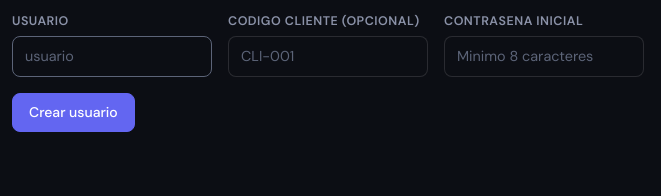
UserCrudForm › valida campos basicos en cliente
Step 1. Type "a" into the field labelled "Usuario" → point(112, 57), box [12,36,212,78]
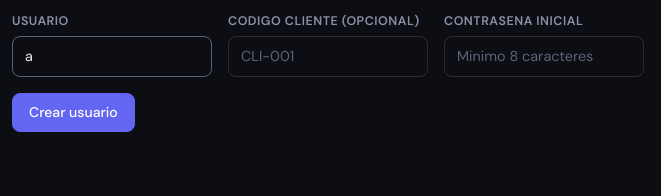
Step 2. Type "123" into the password field labelled "Contrasena inicial" → point(544, 57), box [444,36,644,78]
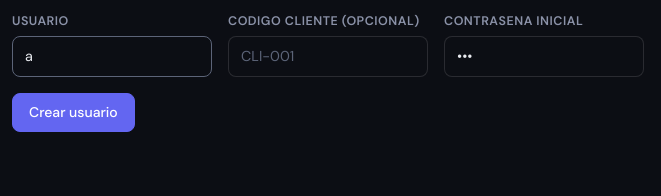
Step 3. Submit the form "Crear usuario", box [12,13,644,132]
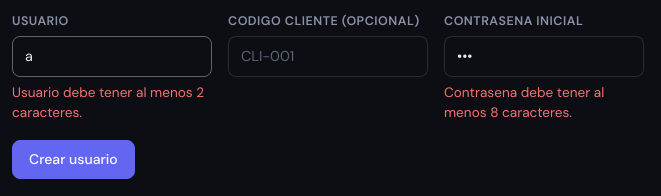
Expected: the text "Usuario debe tener al menos 2 caracteres." is shown, [12,83,212,124]
Expected: the text "Contrasena debe tener al menos 8 caracteres." is shown, [444,84,604,122]
